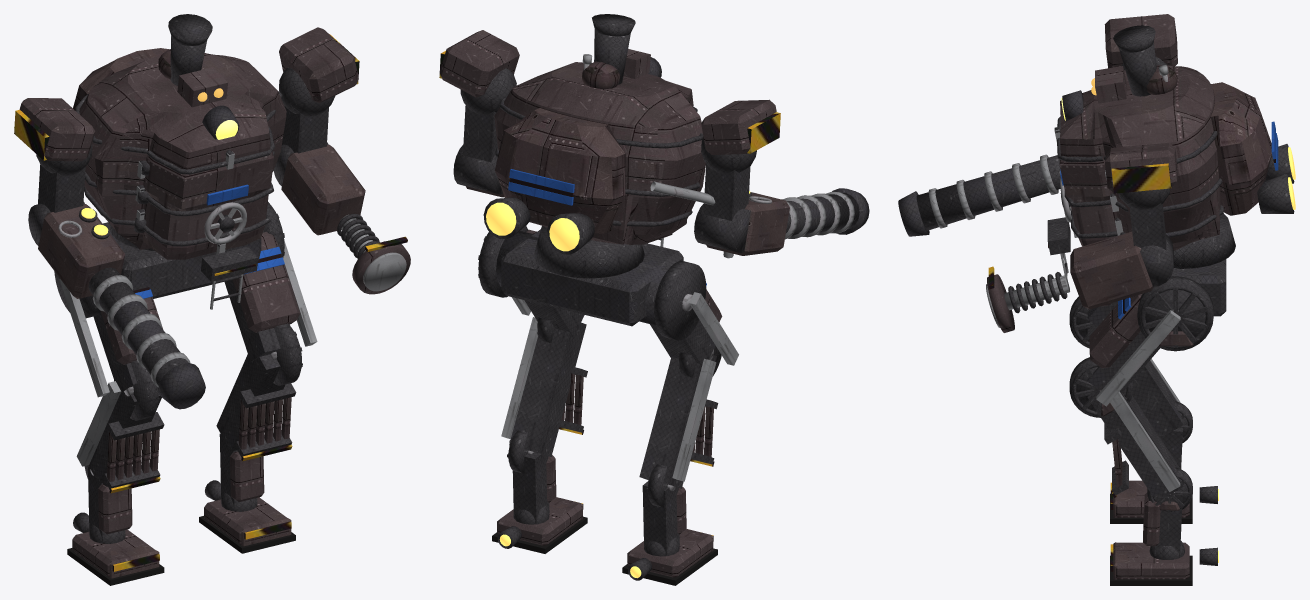
File: mech_ironhorse.glb
3 renders of one model, left to right at view 1: azimuth 30°, elevation 25°; view 2: azimuth 150°, elevation 25°; view 3: azimuth 270°, elevation 25°, orthographic. The views are drawn at different scales.
Parts seen in each view (by area): view 1: cockpit_ironhorse_armor, CHEST_door_ironhorse_armor, forearm_L_ironhorse_armor2, forearm_R_ironhorse_armor2, shoulder_L_ironhorse_armor, shin_L_ironhorse_frame, pelvis_ironhorse_frame, thigh_L_ironhorse_armor, hand_R_ironhorse_dark, shoulder_R_ironhorse_armor, shoulder_L_ironhorse_frame, shin_R_ironhorse_frame (+38 smaller); view 2: cockpit_ironhorse_armor, cockpit_ironhorse_armor2, pelvis_ironhorse_frame, shin_L_ironhorse_frame, pelvis_ironhorse_dark, shin_R_ironhorse_frame, shoulder_L_ironhorse_armor, torso_twist_ironhorse_dark, cockpit_ironhorse_dark, shoulder_R_ironhorse_frame, shoulder_L_ironhorse_frame, shoulder_R_ironhorse_armor (+29 smaller); view 3: cockpit_ironhorse_armor, cockpit_ironhorse_armor2, forearm_L_ironhorse_armor2, hand_R_ironhorse_dark, shin_L_ironhorse_frame, CHEST_door_ironhorse_armor, cockpit_ironhorse_dark, pelvis_ironhorse_frame, shin_R_ironhorse_frame, thigh_L_ironhorse_armor, shoulder_L_ironhorse_frame, shoulder_R_ironhorse_armor (+25 smaller).
Part boxes in pixels (x1,y1,x2,y2): cockpit_ironhorse_armor: (79,53,286,259); CHEST_door_ironhorse_armor: (143,138,273,253); forearm_L_ironhorse_armor2: (281,144,365,235); forearm_R_ironhorse_armor2: (38,204,125,298); shoulder_L_ironhorse_armor: (279,27,358,102); shin_L_ironhorse_frame: (216,327,302,457); pelvis_ironhorse_frame: (103,205,284,298); thigh_L_ironhorse_armor: (233,231,300,332); hand_R_ironhorse_dark: (88,267,188,385); shoulder_R_ironhorse_armor: (19,98,95,161); shoulder_L_ironhorse_frame: (279,68,335,153); shin_R_ironhorse_frame: (88,387,164,489); cockpit_ironhorse_armor: (494,62,705,244); cockpit_ironhorse_armor2: (494,61,625,233); pelvis_ironhorse_frame: (478,229,683,326); shin_L_ironhorse_frame: (509,319,587,456); pelvis_ironhorse_dark: (479,226,706,340); shin_R_ironhorse_frame: (639,353,718,488); shoulder_L_ironhorse_armor: (439,30,519,97); torso_twist_ironhorse_dark: (534,226,644,278); cockpit_ironhorse_dark: (483,29,661,254); shoulder_R_ironhorse_frame: (701,136,756,220); shoulder_L_ironhorse_frame: (460,68,516,162); shoulder_R_ironhorse_armor: (701,99,776,154); cockpit_ironhorse_armor: (1060,65,1220,250); cockpit_ironhorse_armor2: (1146,65,1271,215); forearm_L_ironhorse_armor2: (1070,231,1153,309); hand_R_ironhorse_dark: (916,155,1060,230); shin_L_ironhorse_frame: (1072,363,1183,501); CHEST_door_ironhorse_armor: (1059,145,1116,245); cockpit_ironhorse_dark: (1062,42,1294,213); pelvis_ironhorse_frame: (1124,259,1226,348); shin_R_ironhorse_frame: (1072,303,1183,437); thigh_L_ironhorse_armor: (1089,294,1141,368); shoulder_L_ironhorse_frame: (1118,188,1170,250); shoulder_R_ironhorse_armor: (1104,14,1177,68).
Size of the model in its own units: 6.87 by 11.08 by 7.81.
12 materials, 7 textured.
